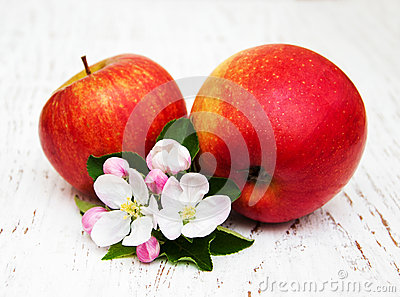apple: (190, 42, 367, 222)
obscured(1)_apple: (39, 51, 188, 198)
